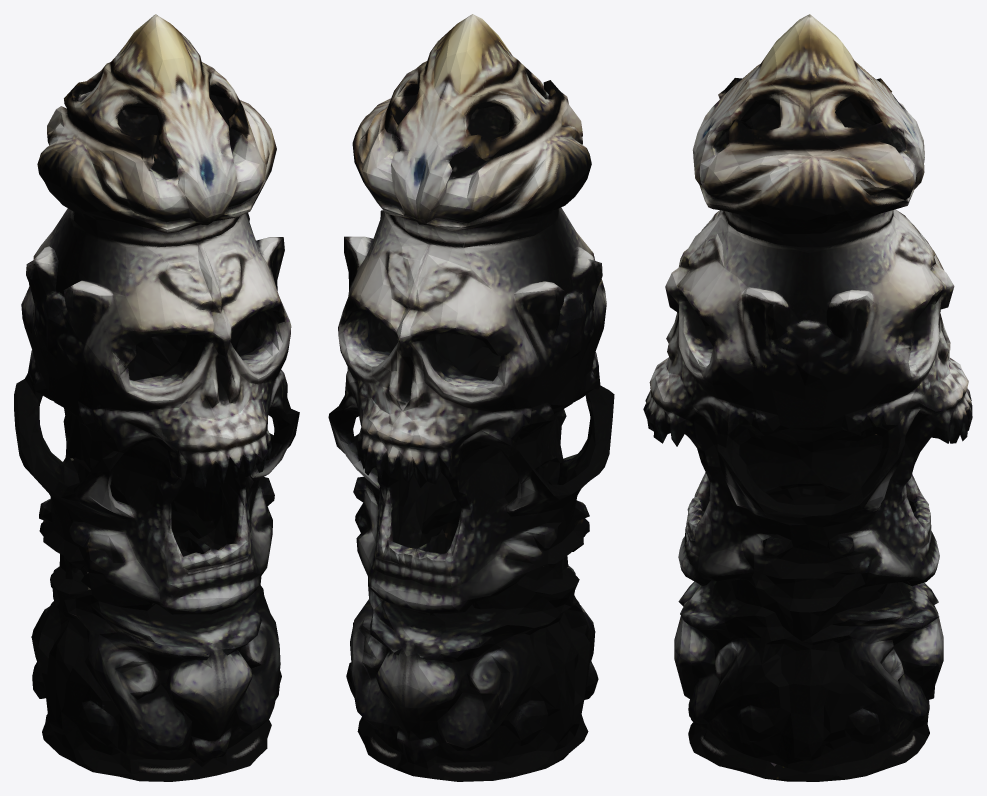
Rendered from wooden-rainstick-horror.jpeg.glb.
3 views of the same model, side by side, from view 1: azimuth 30°, elevation 25°; view 2: azimuth 150°, elevation 25°; view 3: azimuth 270°, elevation 25° (orthographic).
Parts seen in each view (by area): view 1: world; view 2: world; view 3: world.
Boxes of the visible parts, x1,y1,x2,y2 form: world: (14, 14, 299, 781); world: (328, 14, 614, 781); world: (643, 14, 972, 781).
Bounding box in the file's own units: 0.3253 × 1 × 0.4139.
1 material, 1 textured.
